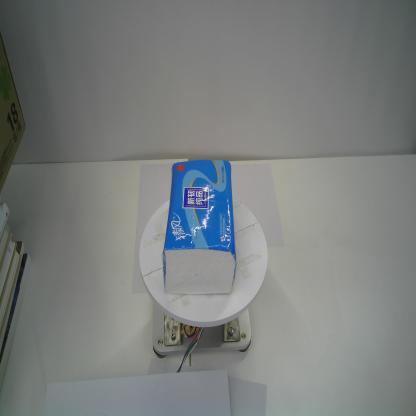Tissue: (162, 157, 236, 296)
